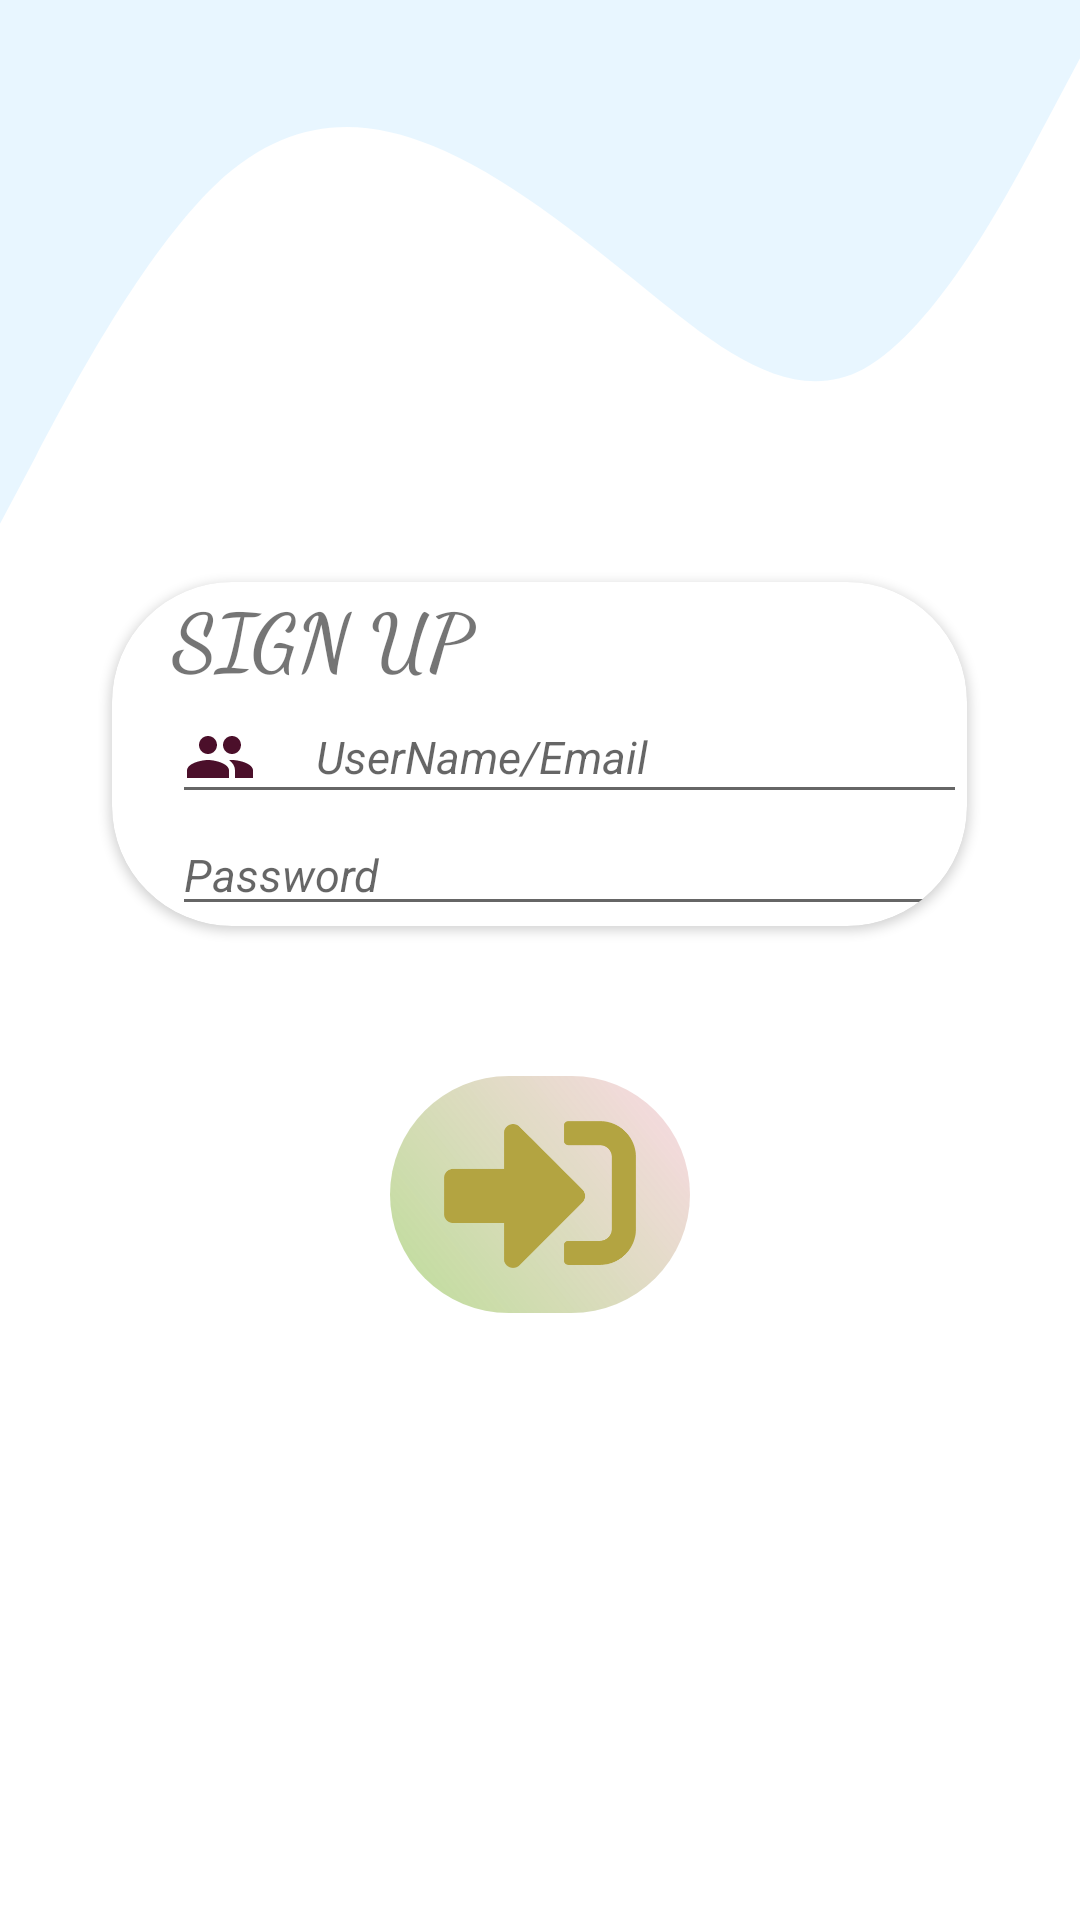

Point at icon controls on the screen. Image size 1080x1920, points as point (x, y).
signin: point (540, 1194)
